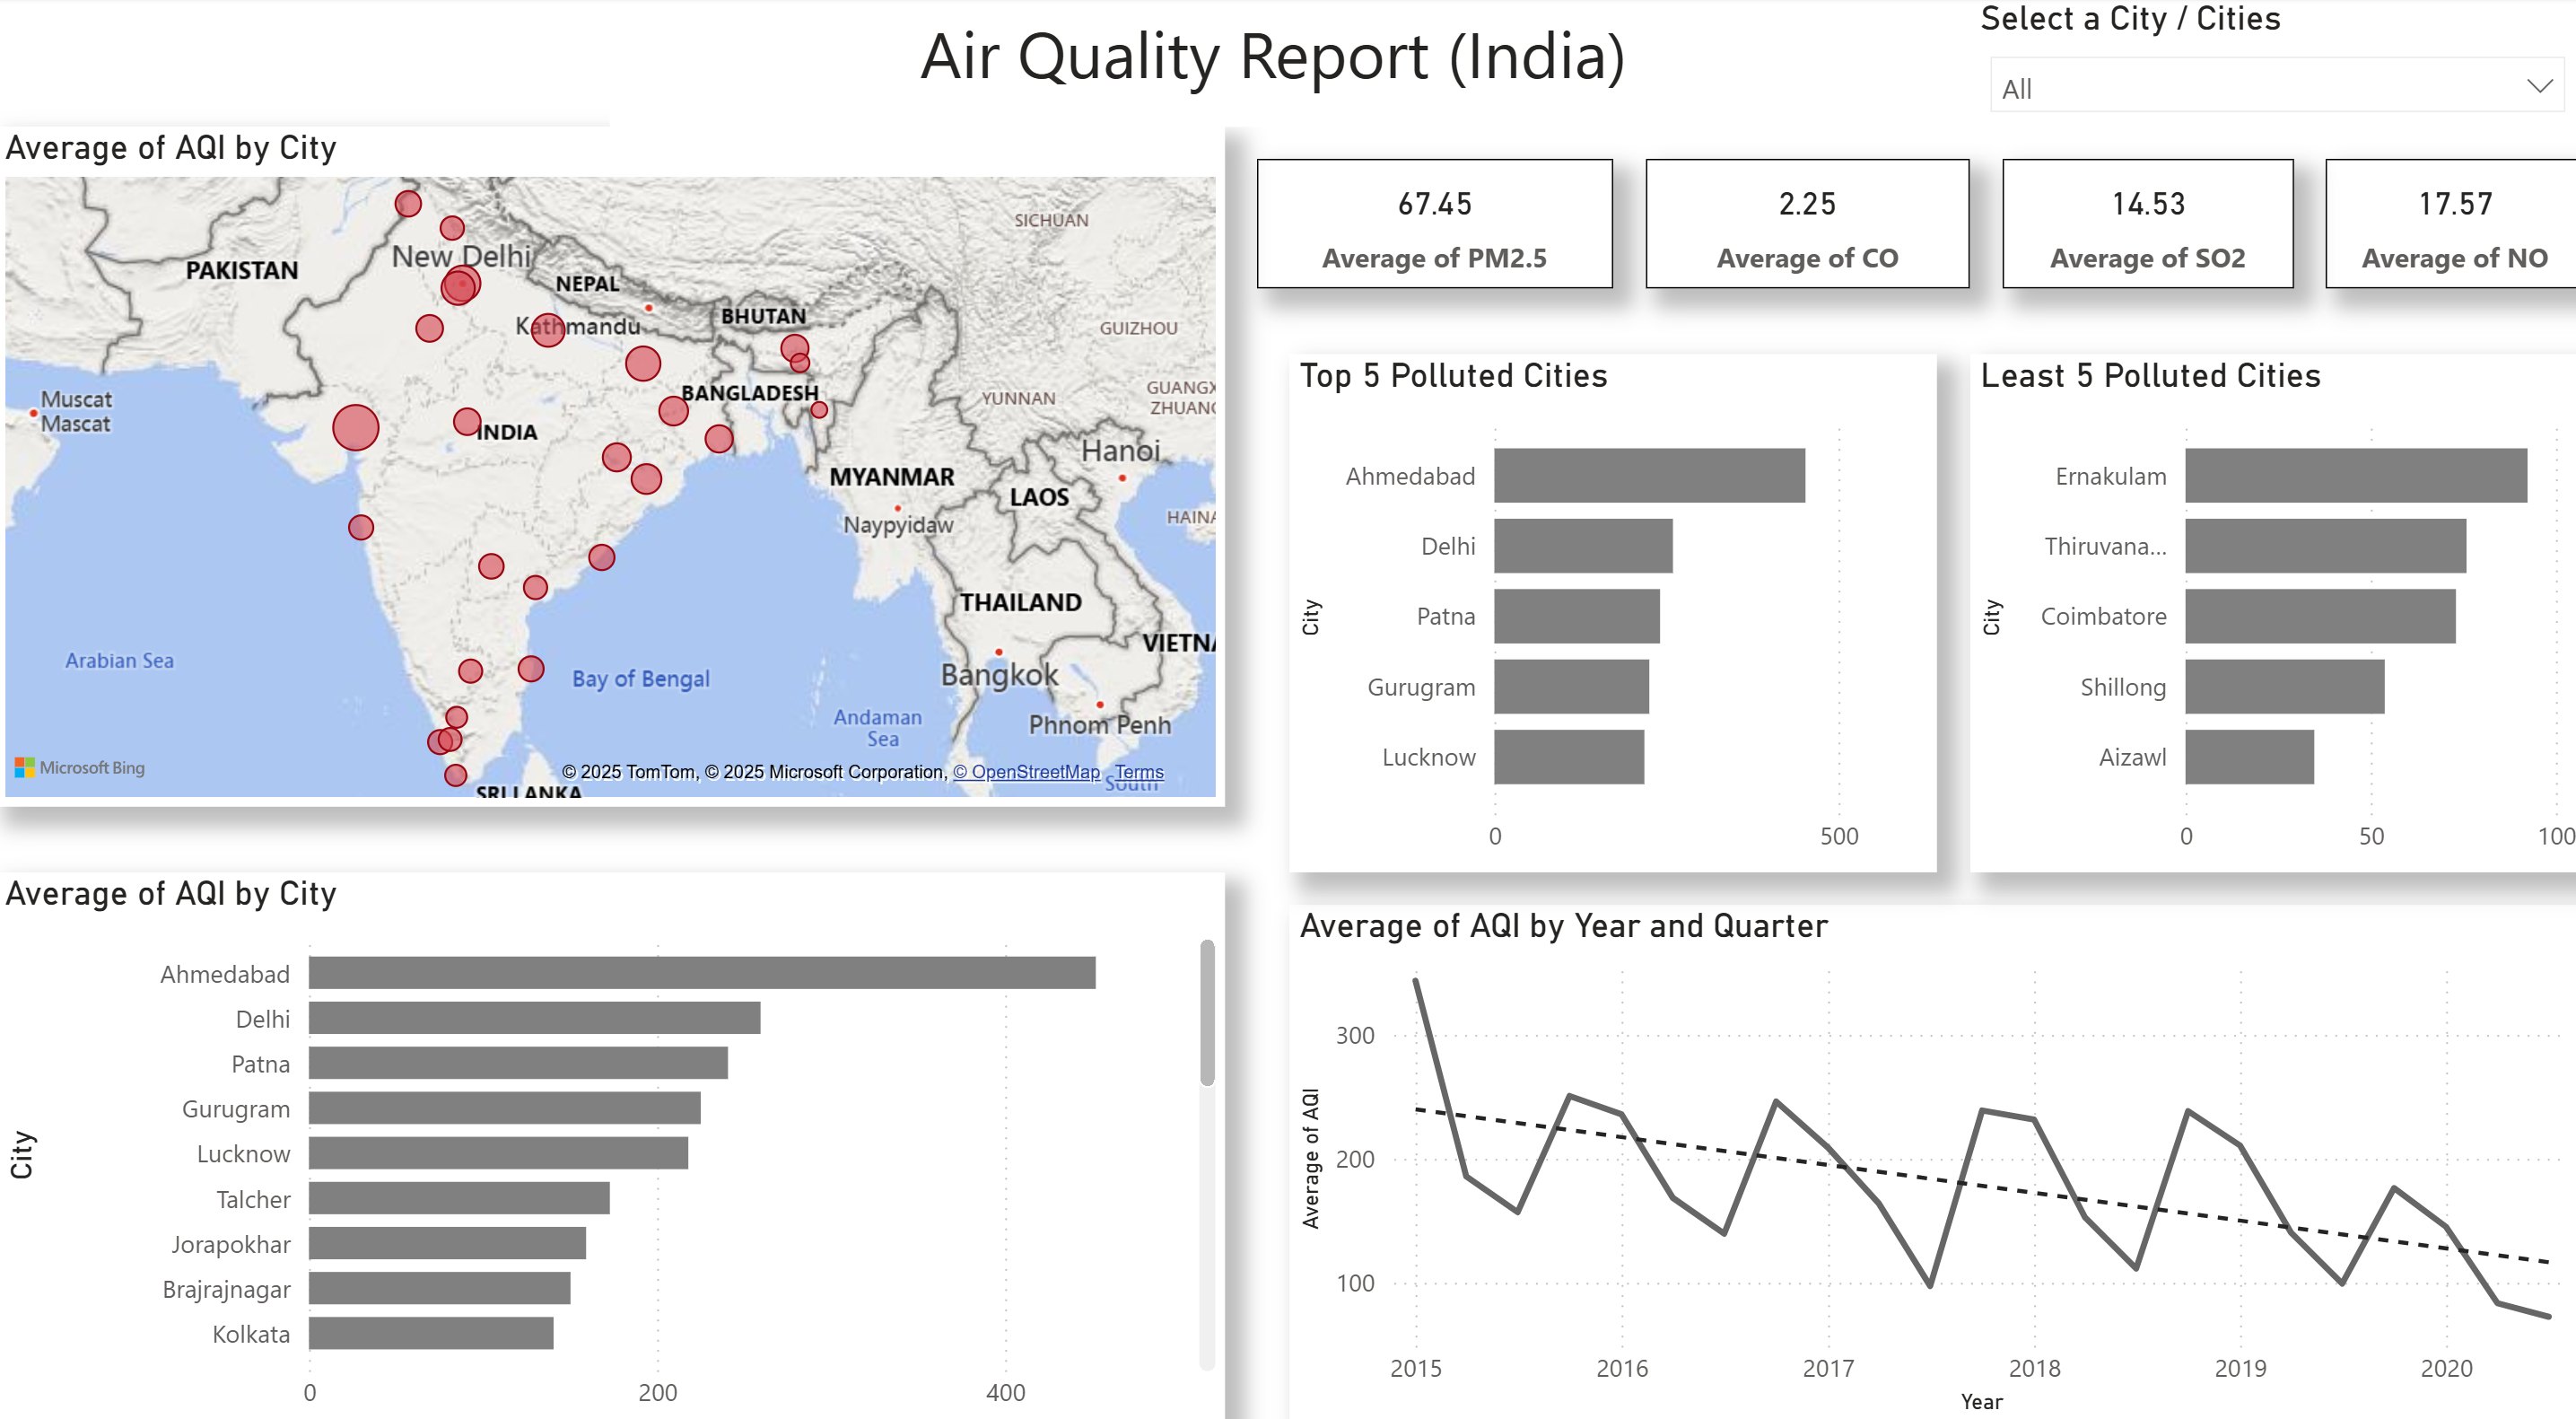

Layout of this report page (visuals, bound fields, positions):
{"tool":"powerbi","page":{"name":"Page 1","canvas":[1280,720],"ordinal":0},"visuals":[{"type":"lineChart","fields":{"Category":["city_day.Date.Variation.Date Hierarchy.Year","city_day.Date.Variation.Date Hierarchy.Quarter","city_day.Date.Variation.Date Hierarchy.Month","city_day.Date.Variation.Date Hierarchy.Day"],"Y":["Avg(city_day.AQI)"]},"box":[640,448,640,256],"z":0},{"type":"slicer","title":"Select a City / Cities","fields":{"Values":["city_day.City"]},"box":[976,0,304,112],"z":1000},{"type":"barChart","fields":{"Category":["city_day.City"],"Y":["Avg(city_day.AQI)"]},"box":[0,432,608,288],"z":2000},{"type":"barChart","title":"Top 5 Polluted Cities","fields":{"Category":["city_day.City"],"Y":["Avg(city_day.AQI)"]},"box":[640,176,320,256],"z":3000},{"type":"barChart","title":"Least 5 Polluted Cities","fields":{"Category":["city_day.City"],"Y":["Avg(city_day.AQI)"]},"box":[976,176,304,256],"z":4000},{"type":"card","fields":{"Values":["Avg(city_day.PM2.5)"]},"box":[624,80,176,64],"z":5000},{"type":"card","fields":{"Values":["Avg(city_day.CO)"]},"box":[816,80,160,64],"z":6000},{"type":"card","fields":{"Values":["Avg(city_day.NO)"]},"box":[1152,80,128,64],"z":7000},{"type":"card","fields":{"Values":["Avg(city_day.SO2)"]},"box":[992,80,144,64],"z":8000},{"type":"map","fields":{"Category":["city_day.City"],"Size":["Avg(city_day.AQI)"]},"box":[0,64,608,336],"z":9000},{"type":"textbox","box":[304,0,656,64],"z":10000}]}

Visuals, with their boxes in screenshot pixels (x1, y1, x2, y2), scaled from the page's 1280x720 canvas onto the 2576x1419 screenshot:
lineChart - city_day.Date.Variation.Date Hierarchy.Year x city_day.Date.Variation.Date Hierarchy.Quarter: 1288, 883, 2575, 1388
"Select a City / Cities" slicer: 1964, 0, 2575, 221
barChart - city_day.City x Avg(city_day.AQI): 0, 852, 1224, 1418
"Top 5 Polluted Cities" barChart: 1288, 346, 1932, 852
"Least 5 Polluted Cities" barChart: 1964, 346, 2575, 852
card - Avg(city_day.PM2.5): 1256, 158, 1610, 284
card - Avg(city_day.CO): 1642, 158, 1964, 284
card - Avg(city_day.NO): 2318, 158, 2575, 284
card - Avg(city_day.SO2): 1996, 158, 2286, 284
map - city_day.City x Avg(city_day.AQI): 0, 127, 1224, 788
textbox: 612, 0, 1932, 127
